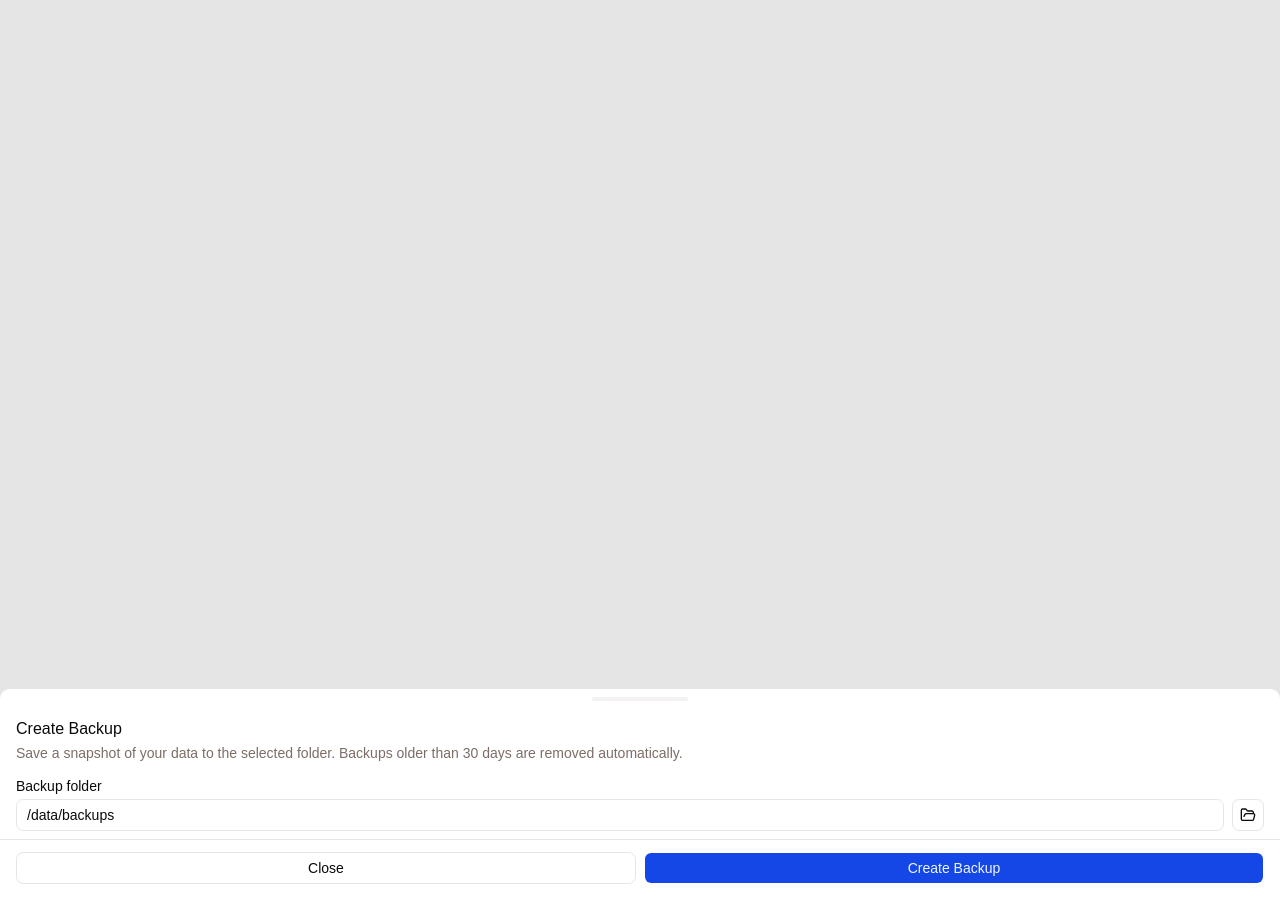
Test: BackupDialog › keeps the dialog and shows a failure inline
Expected: the field labelled "Backup folder" holds "/data/backups", [16,799,1224,831]
Click the button "Create Backup": (954, 868) [644,852,1264,884]
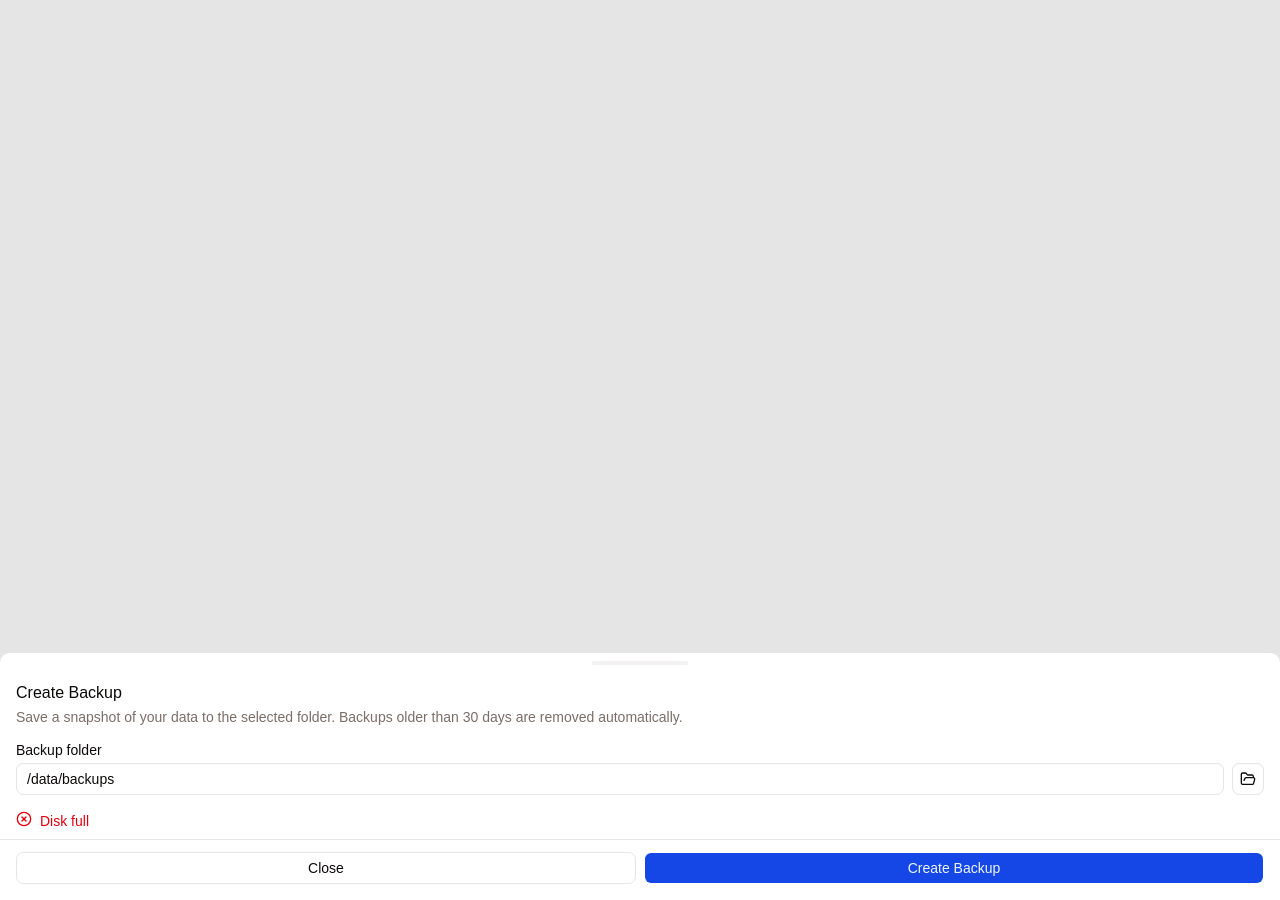
Expected: the message reads "Disk full", [40,813,89,829]
